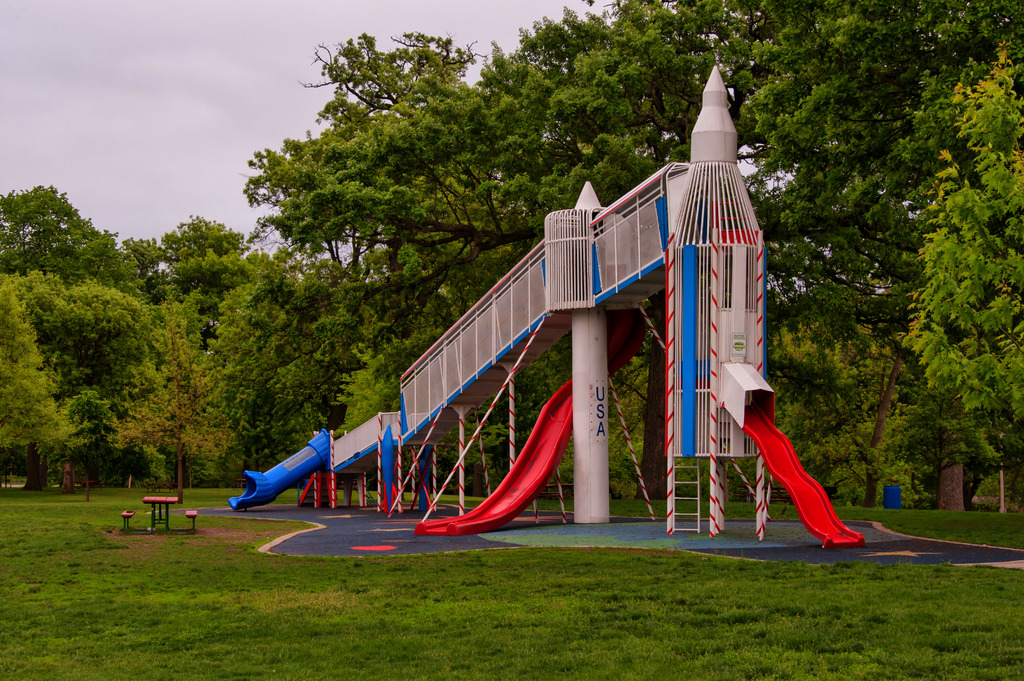Tree: (0, 0, 1023, 523), (107, 303, 236, 509)
